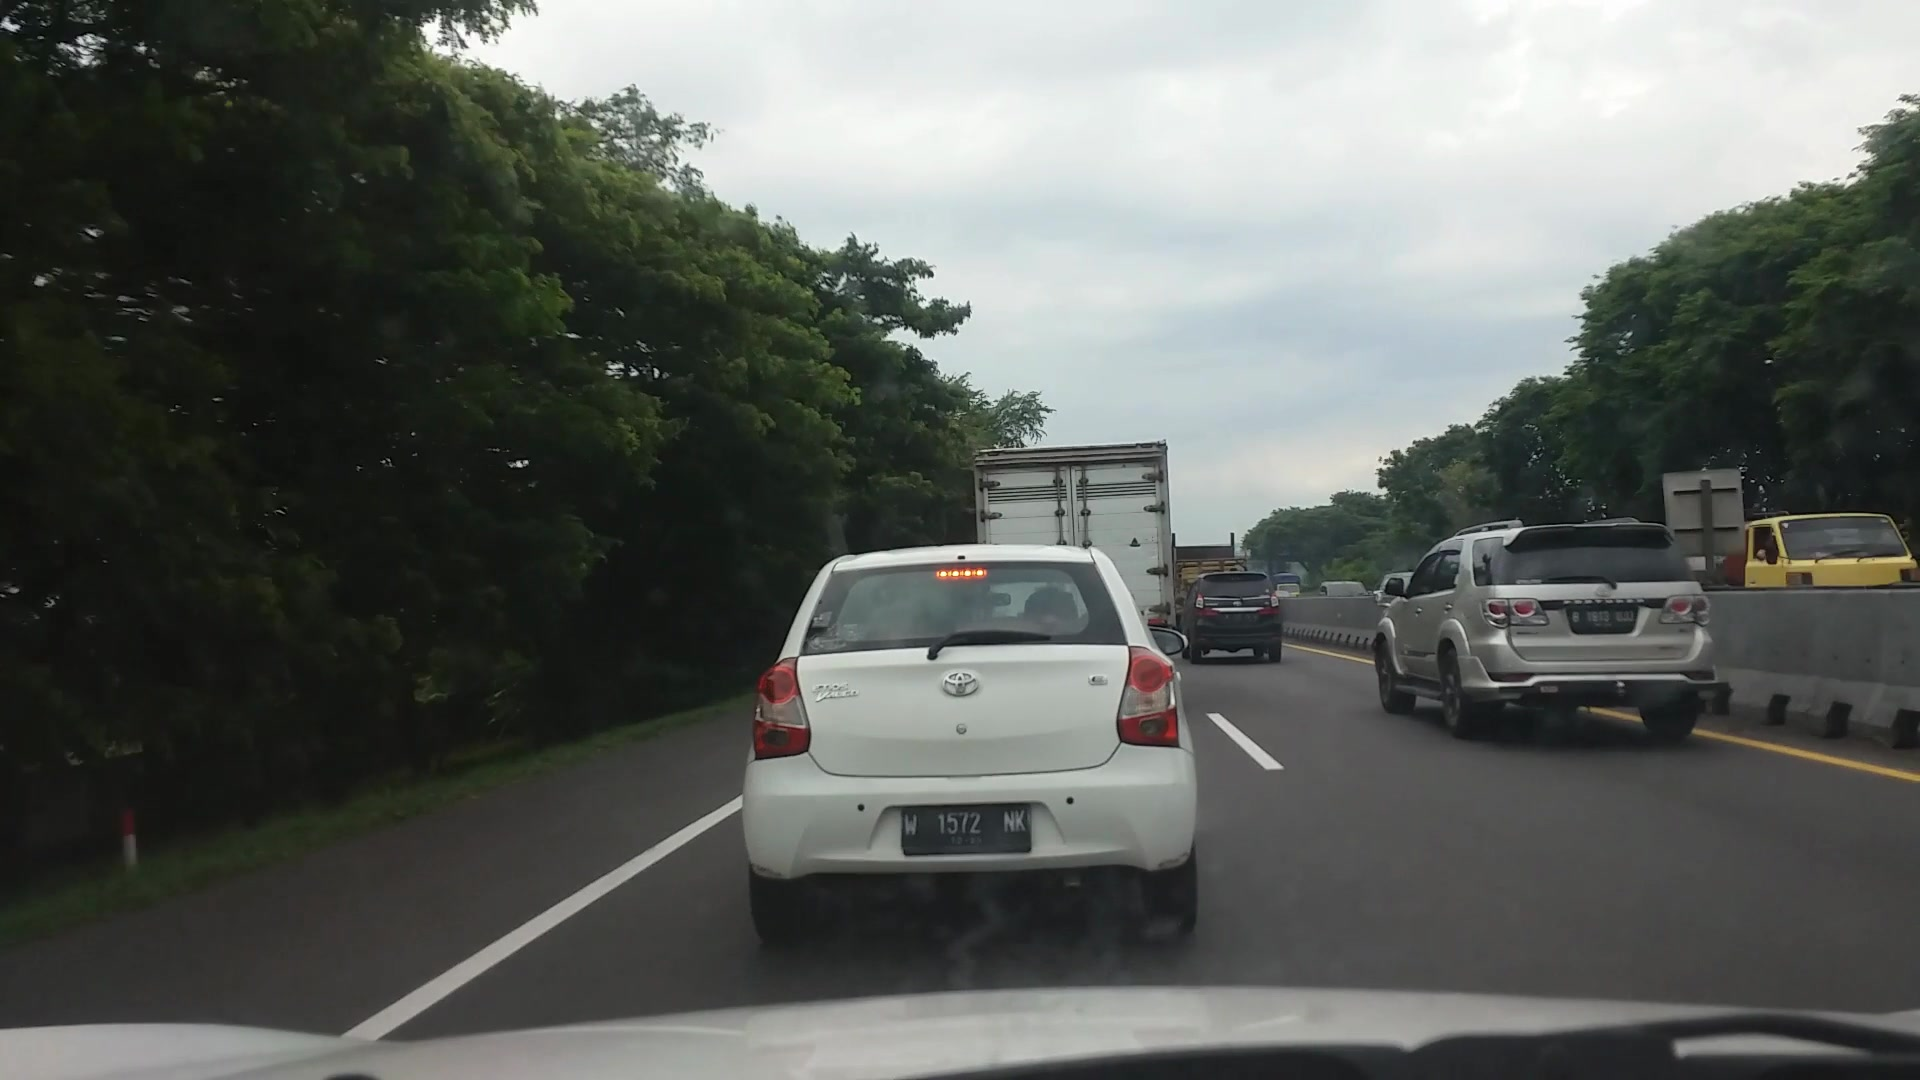plate_positive: (899, 803, 1033, 856), (1569, 608, 1635, 629)
